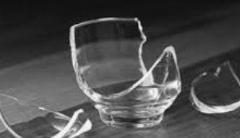glass: (68, 18, 184, 130)
